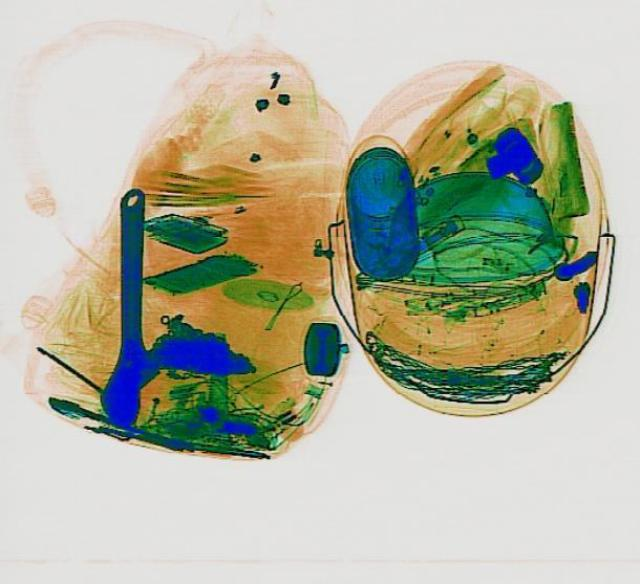Wrench: (98, 186, 162, 426)
